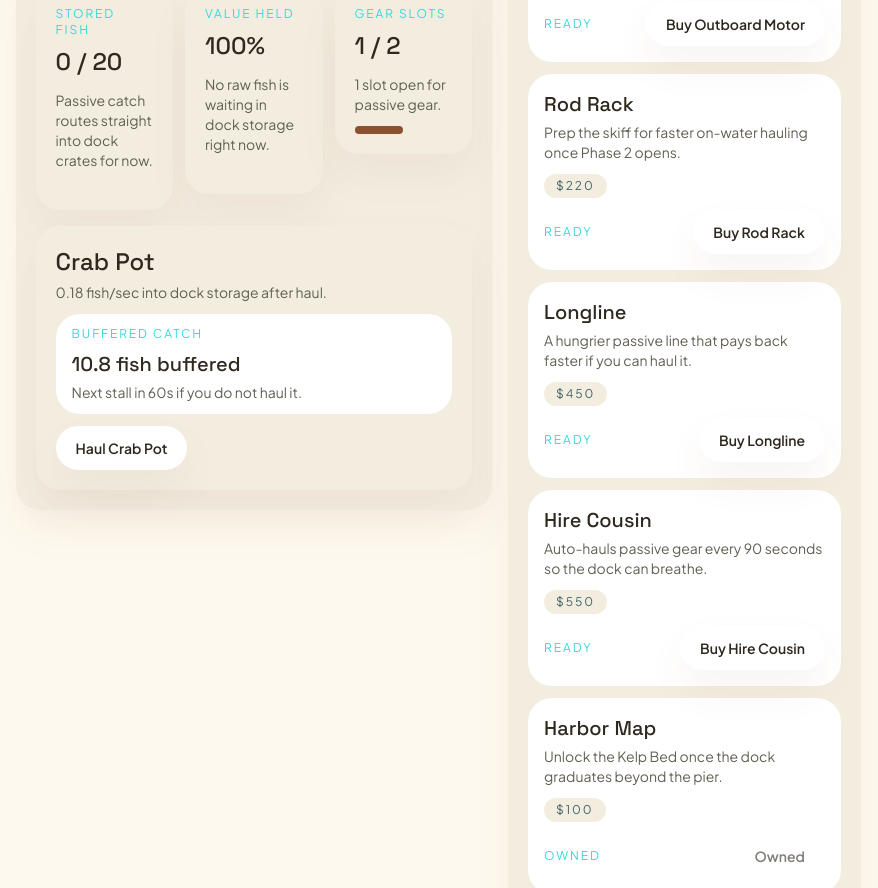
Test: App bootstrap › renders gear cards and lets a crab pot haul buffered catch into storage
The image size is (878, 888).
(page scrolled)
Expected: the heading "Crab Pot" is shown, [56,246,155,277]
Expected: the element with test id "gear-storage" shows "0 / 20", [56,46,122,77]
Click the button "Haul Crab Pot". click: x=122, y=448
box: [56,426,187,470]
(page scrolled)
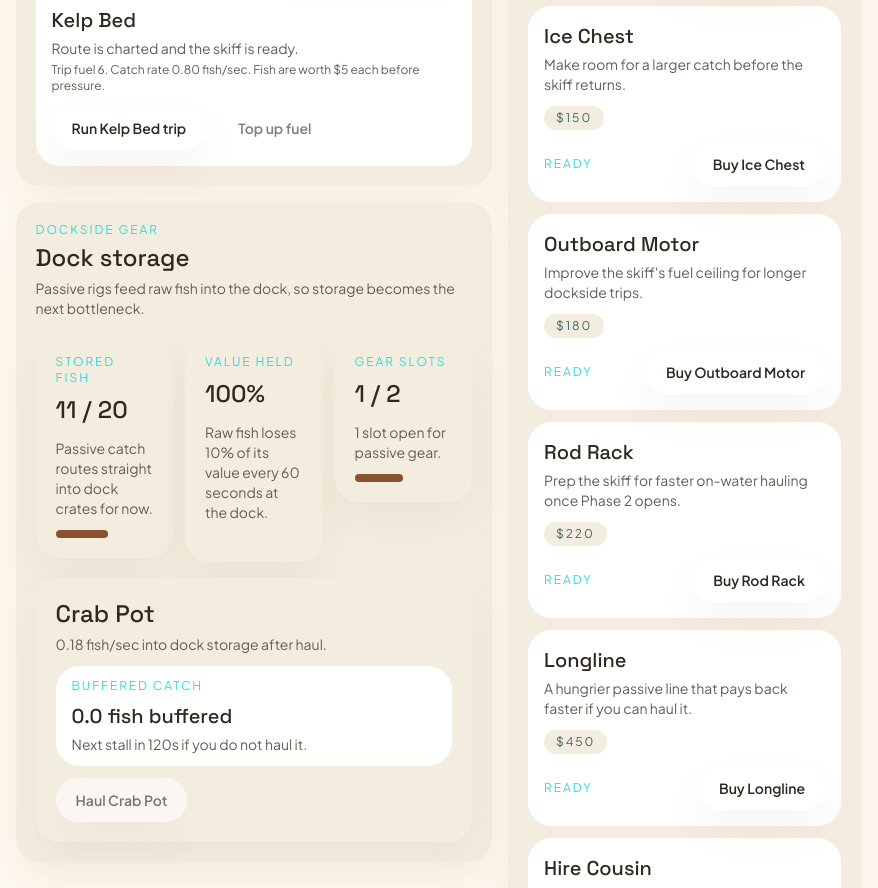
Result: the element with test id "gear-storage" shows "11 / 20" at [56,394,128,425]
